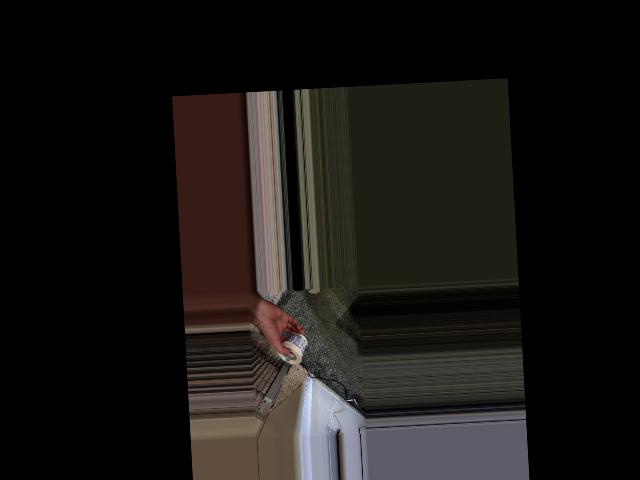cotage: (277, 329, 308, 364)
